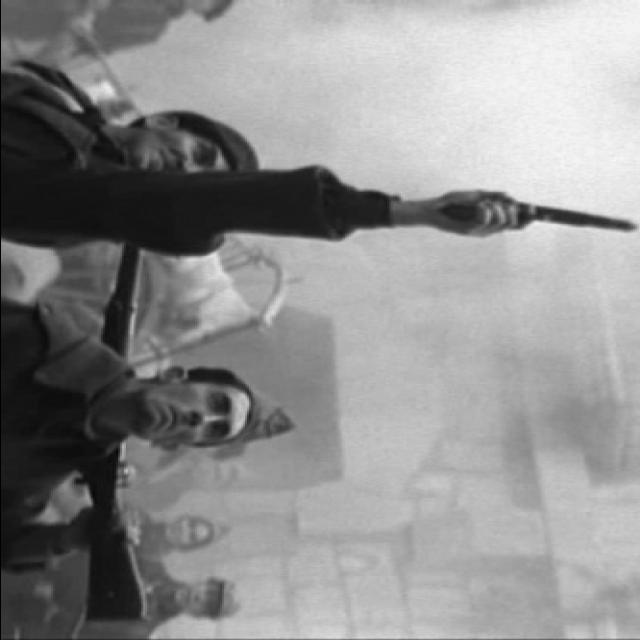weapons: (407, 151, 640, 259)
